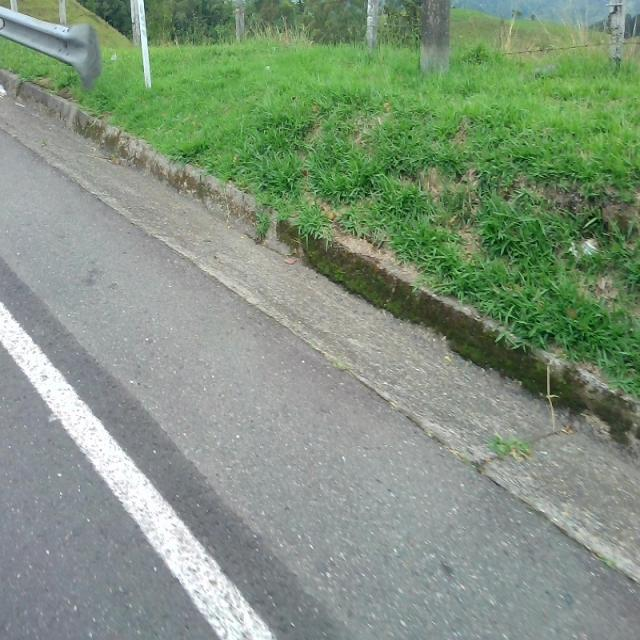DITCH: (1, 1, 638, 638), (1, 68, 638, 637)
